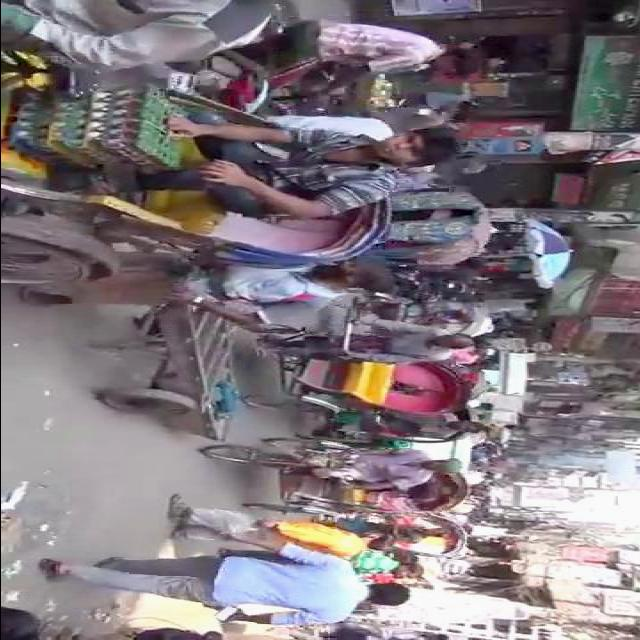motorcycle: (6, 64, 400, 288), (240, 309, 476, 416), (188, 433, 474, 518), (366, 182, 498, 267), (324, 510, 474, 560), (300, 405, 480, 442), (382, 435, 480, 473)
truck: (480, 347, 530, 397)
